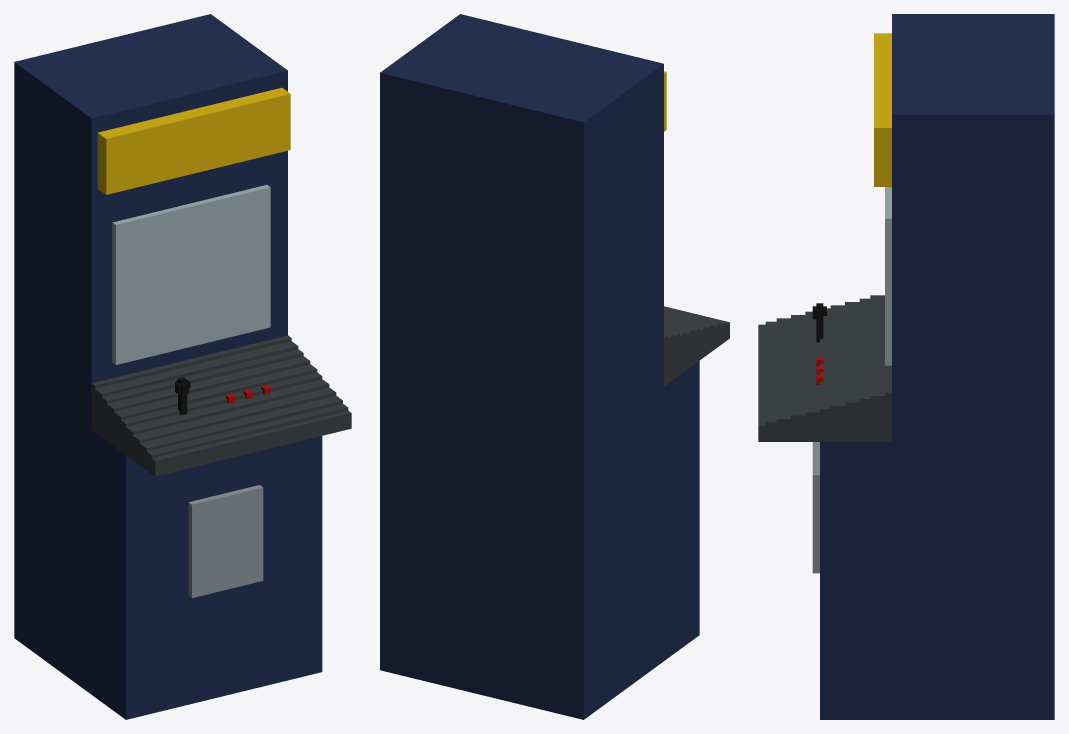
File: arcade_machine.glb
The picture shows the model from 3 angles, left to right: view 1: azimuth 30°, elevation 25°; view 2: azimuth 150°, elevation 25°; view 3: azimuth 270°, elevation 25°; orthographic projection. The views are drawn at different scales.
Visible parts, largest first — view 1: arcade_machine:compound; view 2: arcade_machine:compound; view 3: arcade_machine:compound.
Boxes of the visible parts, bbox=[...] form: arcade_machine:compound: bbox=[14, 14, 351, 719]; arcade_machine:compound: bbox=[380, 14, 729, 719]; arcade_machine:compound: bbox=[758, 14, 1054, 719].
Bounding box in the file's own units: 0.66 × 1.85 × 0.82.
